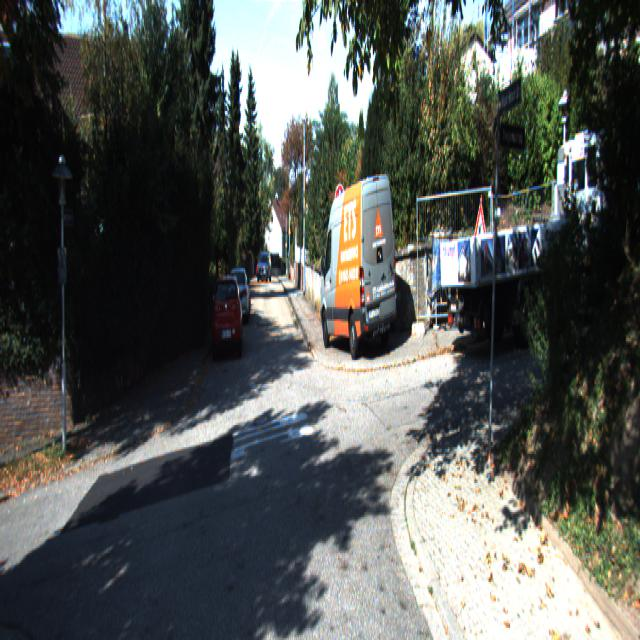Car: (439, 118, 627, 398), (319, 173, 399, 370), (208, 268, 242, 362), (229, 267, 252, 324), (256, 253, 271, 283)
